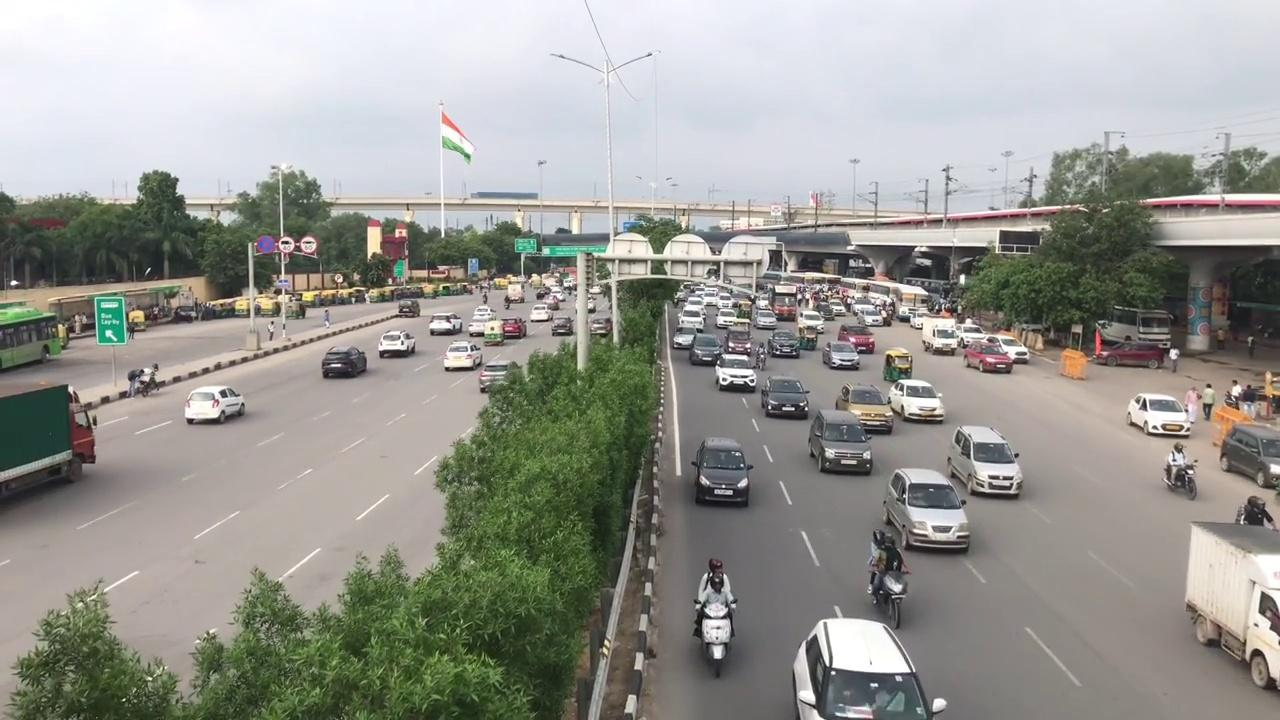Auto: (883, 347, 914, 386)
Bike: (695, 551, 735, 677), (867, 527, 906, 634), (1164, 435, 1200, 497)
Bus: (0, 294, 64, 373)
Car: (794, 614, 940, 720), (884, 466, 970, 552), (948, 422, 1024, 498), (810, 408, 873, 478), (693, 436, 753, 506), (837, 378, 893, 436), (1128, 389, 1192, 436), (890, 374, 945, 423), (760, 372, 810, 420)
Truck: (1183, 520, 1280, 696), (0, 379, 101, 499), (920, 314, 960, 354)
